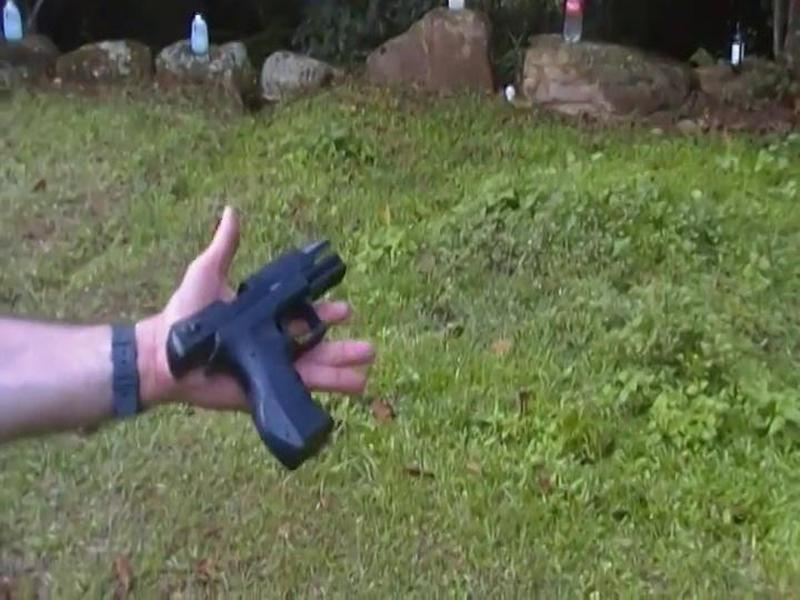Pistola: (151, 231, 368, 470)
